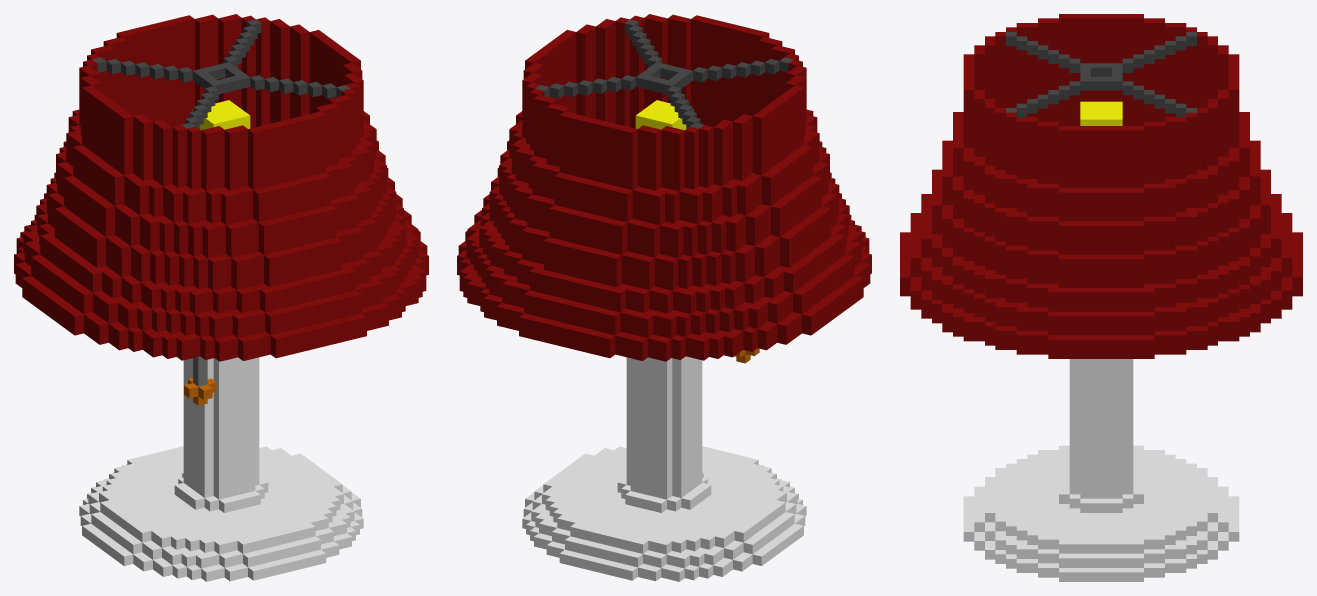
The model's file is Lamp-2.obj.
3 renders of one model, left to right at view 1: azimuth 30°, elevation 25°; view 2: azimuth 150°, elevation 25°; view 3: azimuth 270°, elevation 25°, orthographic.
Parts seen in each view (by area): view 1: Lamp-2; view 2: Lamp-2; view 3: Lamp-2.
Part boxes in pixels (<box>): Lamp-2: <box>14,14,428,581</box>; Lamp-2: <box>457,14,871,581</box>; Lamp-2: <box>900,14,1302,581</box>.
Bounding box in the file's own units: 38 × 47 × 38.
1 material, 1 textured.
